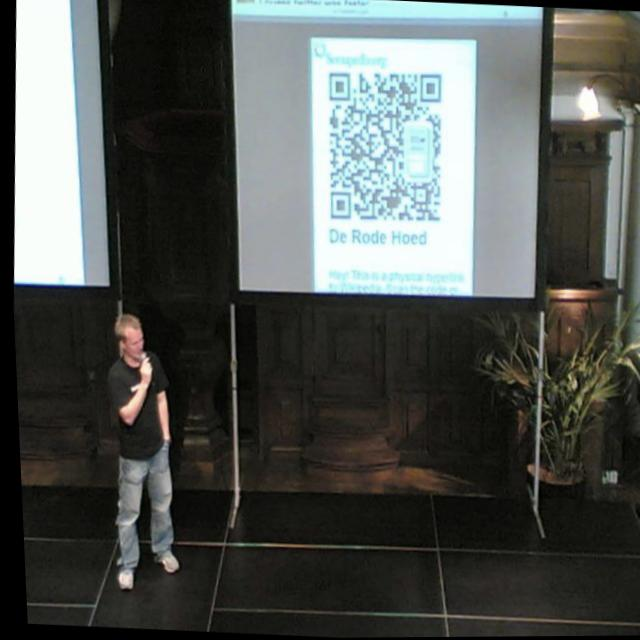qrcode: (322, 70, 447, 226)
